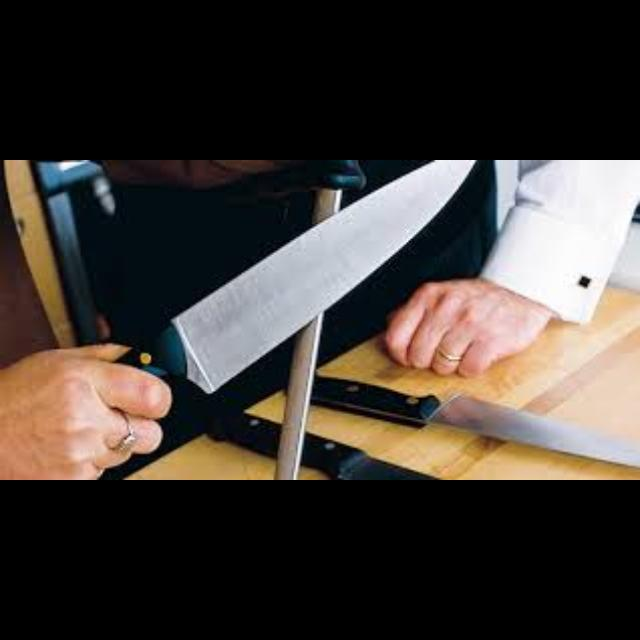knife: (61, 160, 640, 480), (97, 160, 477, 420), (308, 374, 638, 468), (0, 358, 172, 480)
